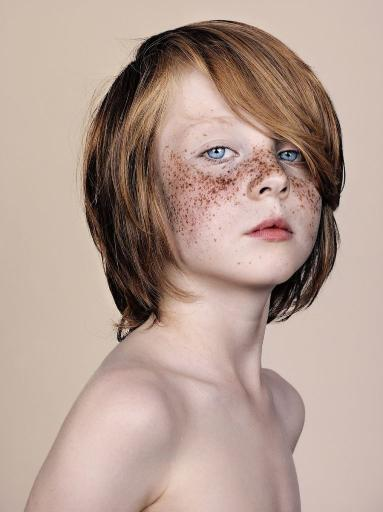left_eye: (278, 148, 308, 166)
left_lip_corner: (289, 226, 298, 240)
right_eye: (196, 144, 242, 166)
right_lip_corner: (242, 227, 254, 242)
